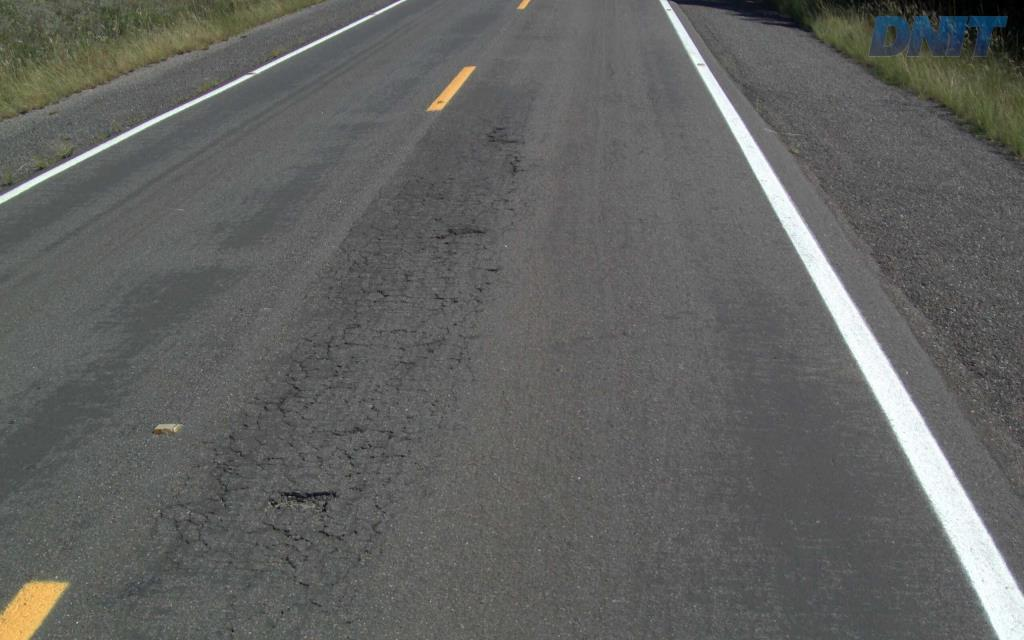crack: (278, 490, 339, 513)
